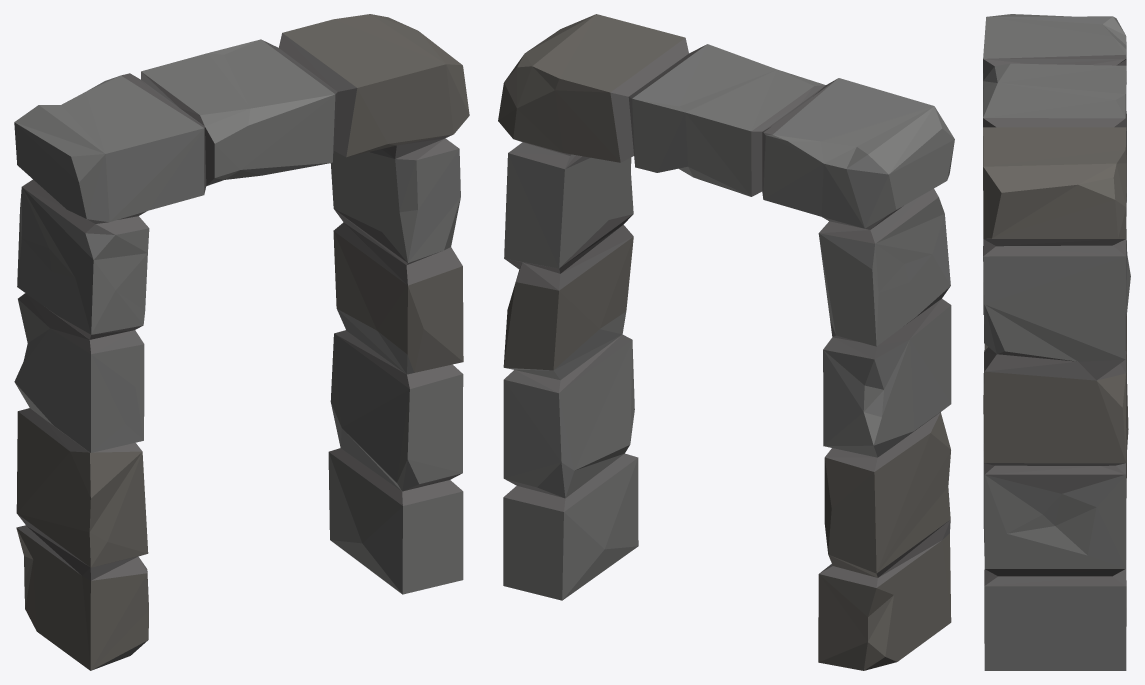
Rendered from SM_Env_Door_Frame_01.FBX.
The picture shows the model from 3 angles, left to right: view 1: azimuth 30°, elevation 25°; view 2: azimuth 150°, elevation 25°; view 3: azimuth 270°, elevation 25°; orthographic projection. The views are drawn at different scales.
Visible parts, largest first — view 1: SM_Env_Door_Frame_01; view 2: SM_Env_Door_Frame_01; view 3: SM_Env_Door_Frame_01.
Boxes of the visible parts, x1,y1,x2,y2 form: SM_Env_Door_Frame_01: (14, 14, 469, 670); SM_Env_Door_Frame_01: (498, 14, 954, 670); SM_Env_Door_Frame_01: (983, 14, 1130, 670).
Size of what is drawn, in the model's own units: 200 by 68.4 by 253.
